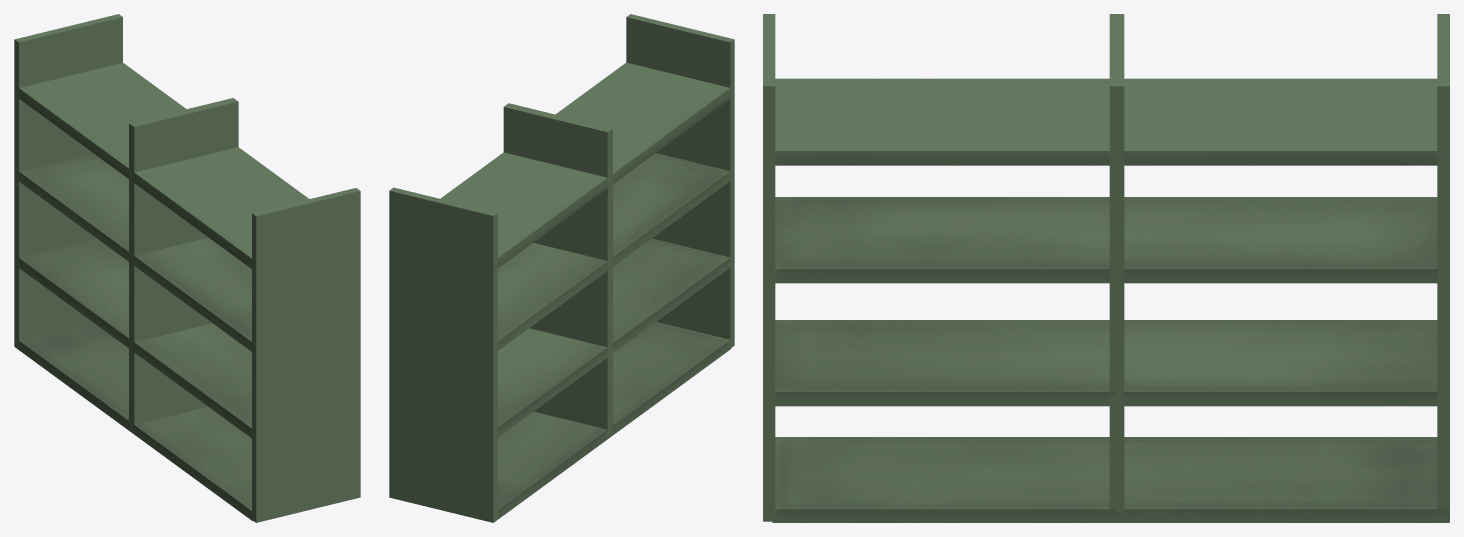
Rendered from Shelf.FBX.
3 renders of one model, left to right at view 1: azimuth 30°, elevation 25°; view 2: azimuth 150°, elevation 25°; view 3: azimuth 270°, elevation 25°, orthographic. The views are drawn at different scales.
Visible parts, largest first — view 1: Box013; view 2: Box013; view 3: Box013.
Part boxes in pixels (x1,y1,x2,y2): Box013: (14, 14, 360, 522); Box013: (389, 14, 734, 522); Box013: (763, 14, 1449, 522).
Size of the model in its own units: 159 by 448 by 639.
1 material, 1 textured.
